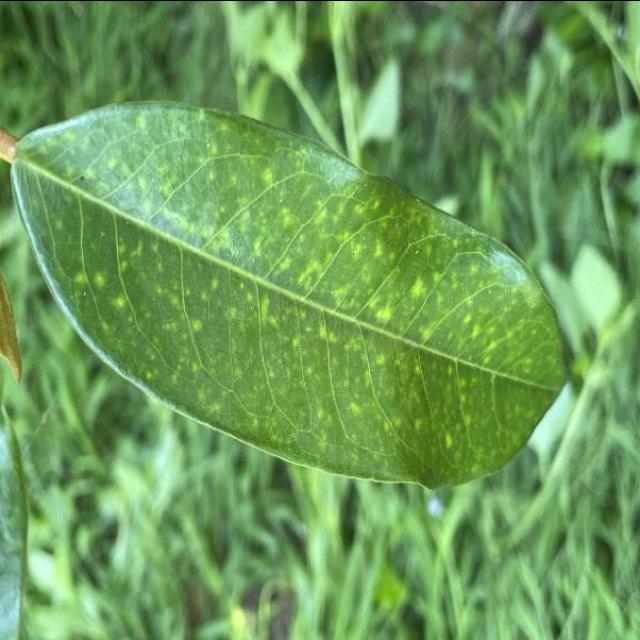Leaf Spot: (0, 88, 582, 506)
